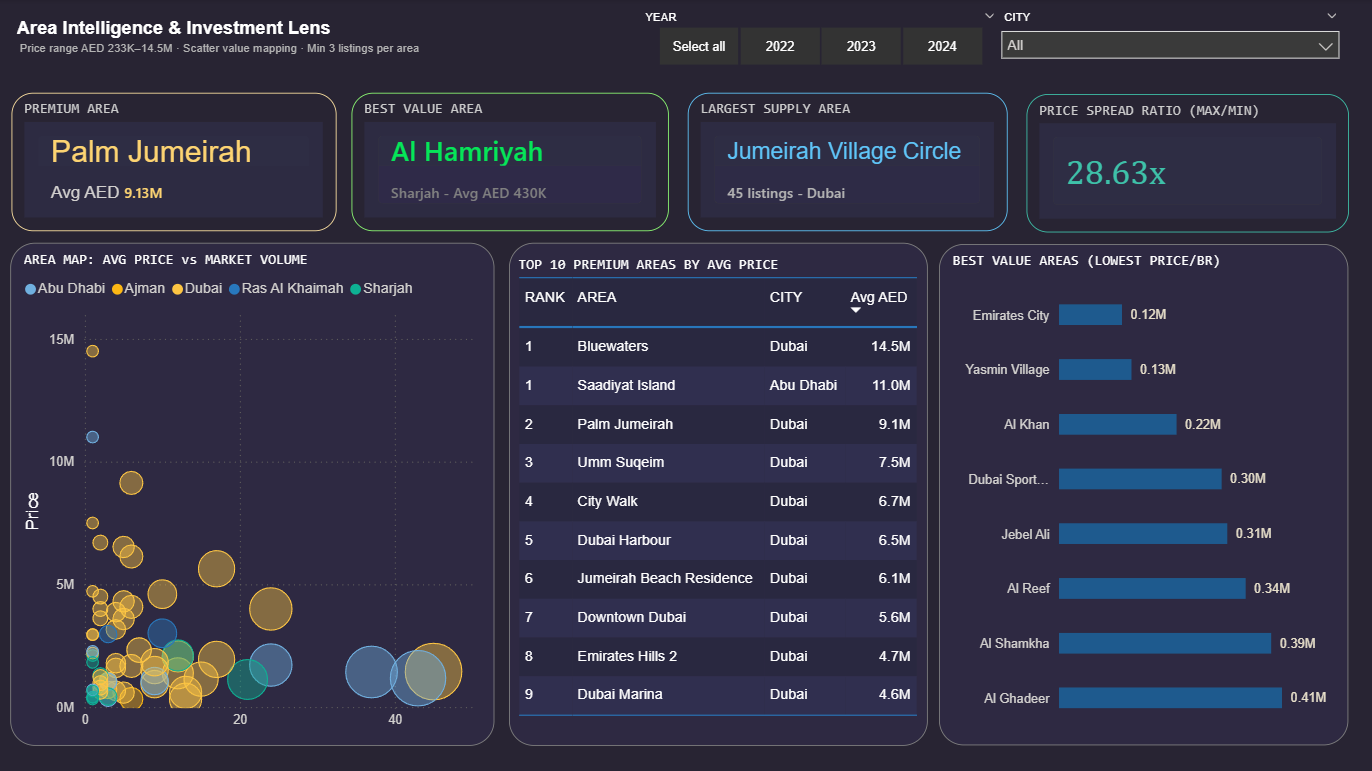

This screenshot's page, from the dashboard's own definition file:
{"tool":"powerbi","page":{"name":"AREA","canvas":[1280,720],"ordinal":2},"visuals":[{"type":"textbox","box":[11.2,12.5,528.8,56.2],"z":0},{"type":"cardVisual","title":"PREMIUM AREA","fields":{"Data":["uae_property_db vw_listings_detail.Premium Area"]},"box":[11.9,86.9,302.4,128.6],"z":1000},{"type":"scatterChart","title":"AREA MAP: AVG PRICE vs MARKET VOLUME","fields":{"X":["uae_property_db vw_listings_detail.Total Listings"],"Y":["uae_property_db vw_listings_detail.Avg Price AED"],"Series":["uae_property_db vw_listings_detail.city"],"Category":["uae_property_db vw_listings_detail.area"],"Size":["uae_property_db vw_listings_detail.Total Listings"]},"box":[10.7,226.2,450,467.9],"z":2000},{"type":"tableEx","title":"TOP 10 PREMIUM AREAS BY AVG PRICE","fields":{"Values":["uae_property_db vw_listings_detail.Rank","uae_property_db vw_listings_detail.area","uae_property_db vw_listings_detail.city","uae_property_db vw_listings_detail.Avg Price AED"]},"box":[475,226.2,389.3,467.9],"z":3000},{"type":"slicer","title":"City","fields":{"Values":["uae_property_db vw_listings_detail.listing_year"]},"box":[588.5,6.2,350,62.3],"z":4000},{"type":"cardVisual","title":"BEST VALUE AREA","fields":{"Data":["uae_property_db vw_listings_detail.Best Value Area"]},"box":[327.4,86.9,295.2,128.6],"z":5000},{"type":"cardVisual","title":"LARGEST SUPPLY AREA","fields":{"Data":["uae_property_db vw_listings_detail.Largest Supply Area"]},"box":[640.5,86.9,297.6,128.6],"z":6000},{"type":"cardVisual","title":"PRICE SPREAD RATIO (MAX/MIN)","fields":{"Data":["uae_property_db vw_listings_detail.Price Spread Ratio"]},"box":[956,88.1,300,128.6],"z":7000},{"type":"barChart","title":"BEST VALUE AREAS (LOWEST PRICE/BR)","fields":{"Y":["uae_property_db vw_listings_detail.Avg Price Per Bedroom"],"Category":["uae_property_db vw_listings_detail.area"]},"box":[875,227.4,381,466.7],"z":8000},{"type":"slicer","fields":{"Values":["uae_property_db vw_listings_detail.city"]},"box":[921.5,6.2,334.6,76.9],"z":9000}]}

Visuals, with their boxes in screenshot pixels (x1, y1, x2, y2), scaled from the page's 1280x720 canvas onto the 1372x771 screenshot:
textbox: detection(12, 13, 579, 74)
"PREMIUM AREA" cardVisual: detection(13, 93, 337, 231)
"AREA MAP: AVG PRICE vs MARKET VOLUME" scatterChart: detection(11, 242, 494, 743)
"TOP 10 PREMIUM AREAS BY AVG PRICE" tableEx: detection(509, 242, 926, 743)
"City" slicer: detection(631, 7, 1006, 73)
"BEST VALUE AREA" cardVisual: detection(351, 93, 667, 231)
"LARGEST SUPPLY AREA" cardVisual: detection(687, 93, 1006, 231)
"PRICE SPREAD RATIO (MAX/MIN)" cardVisual: detection(1025, 94, 1346, 232)
"BEST VALUE AREAS (LOWEST PRICE/BR)" barChart: detection(938, 244, 1346, 743)
slicer - uae_property_db vw_listings_detail.city: detection(988, 7, 1346, 89)
